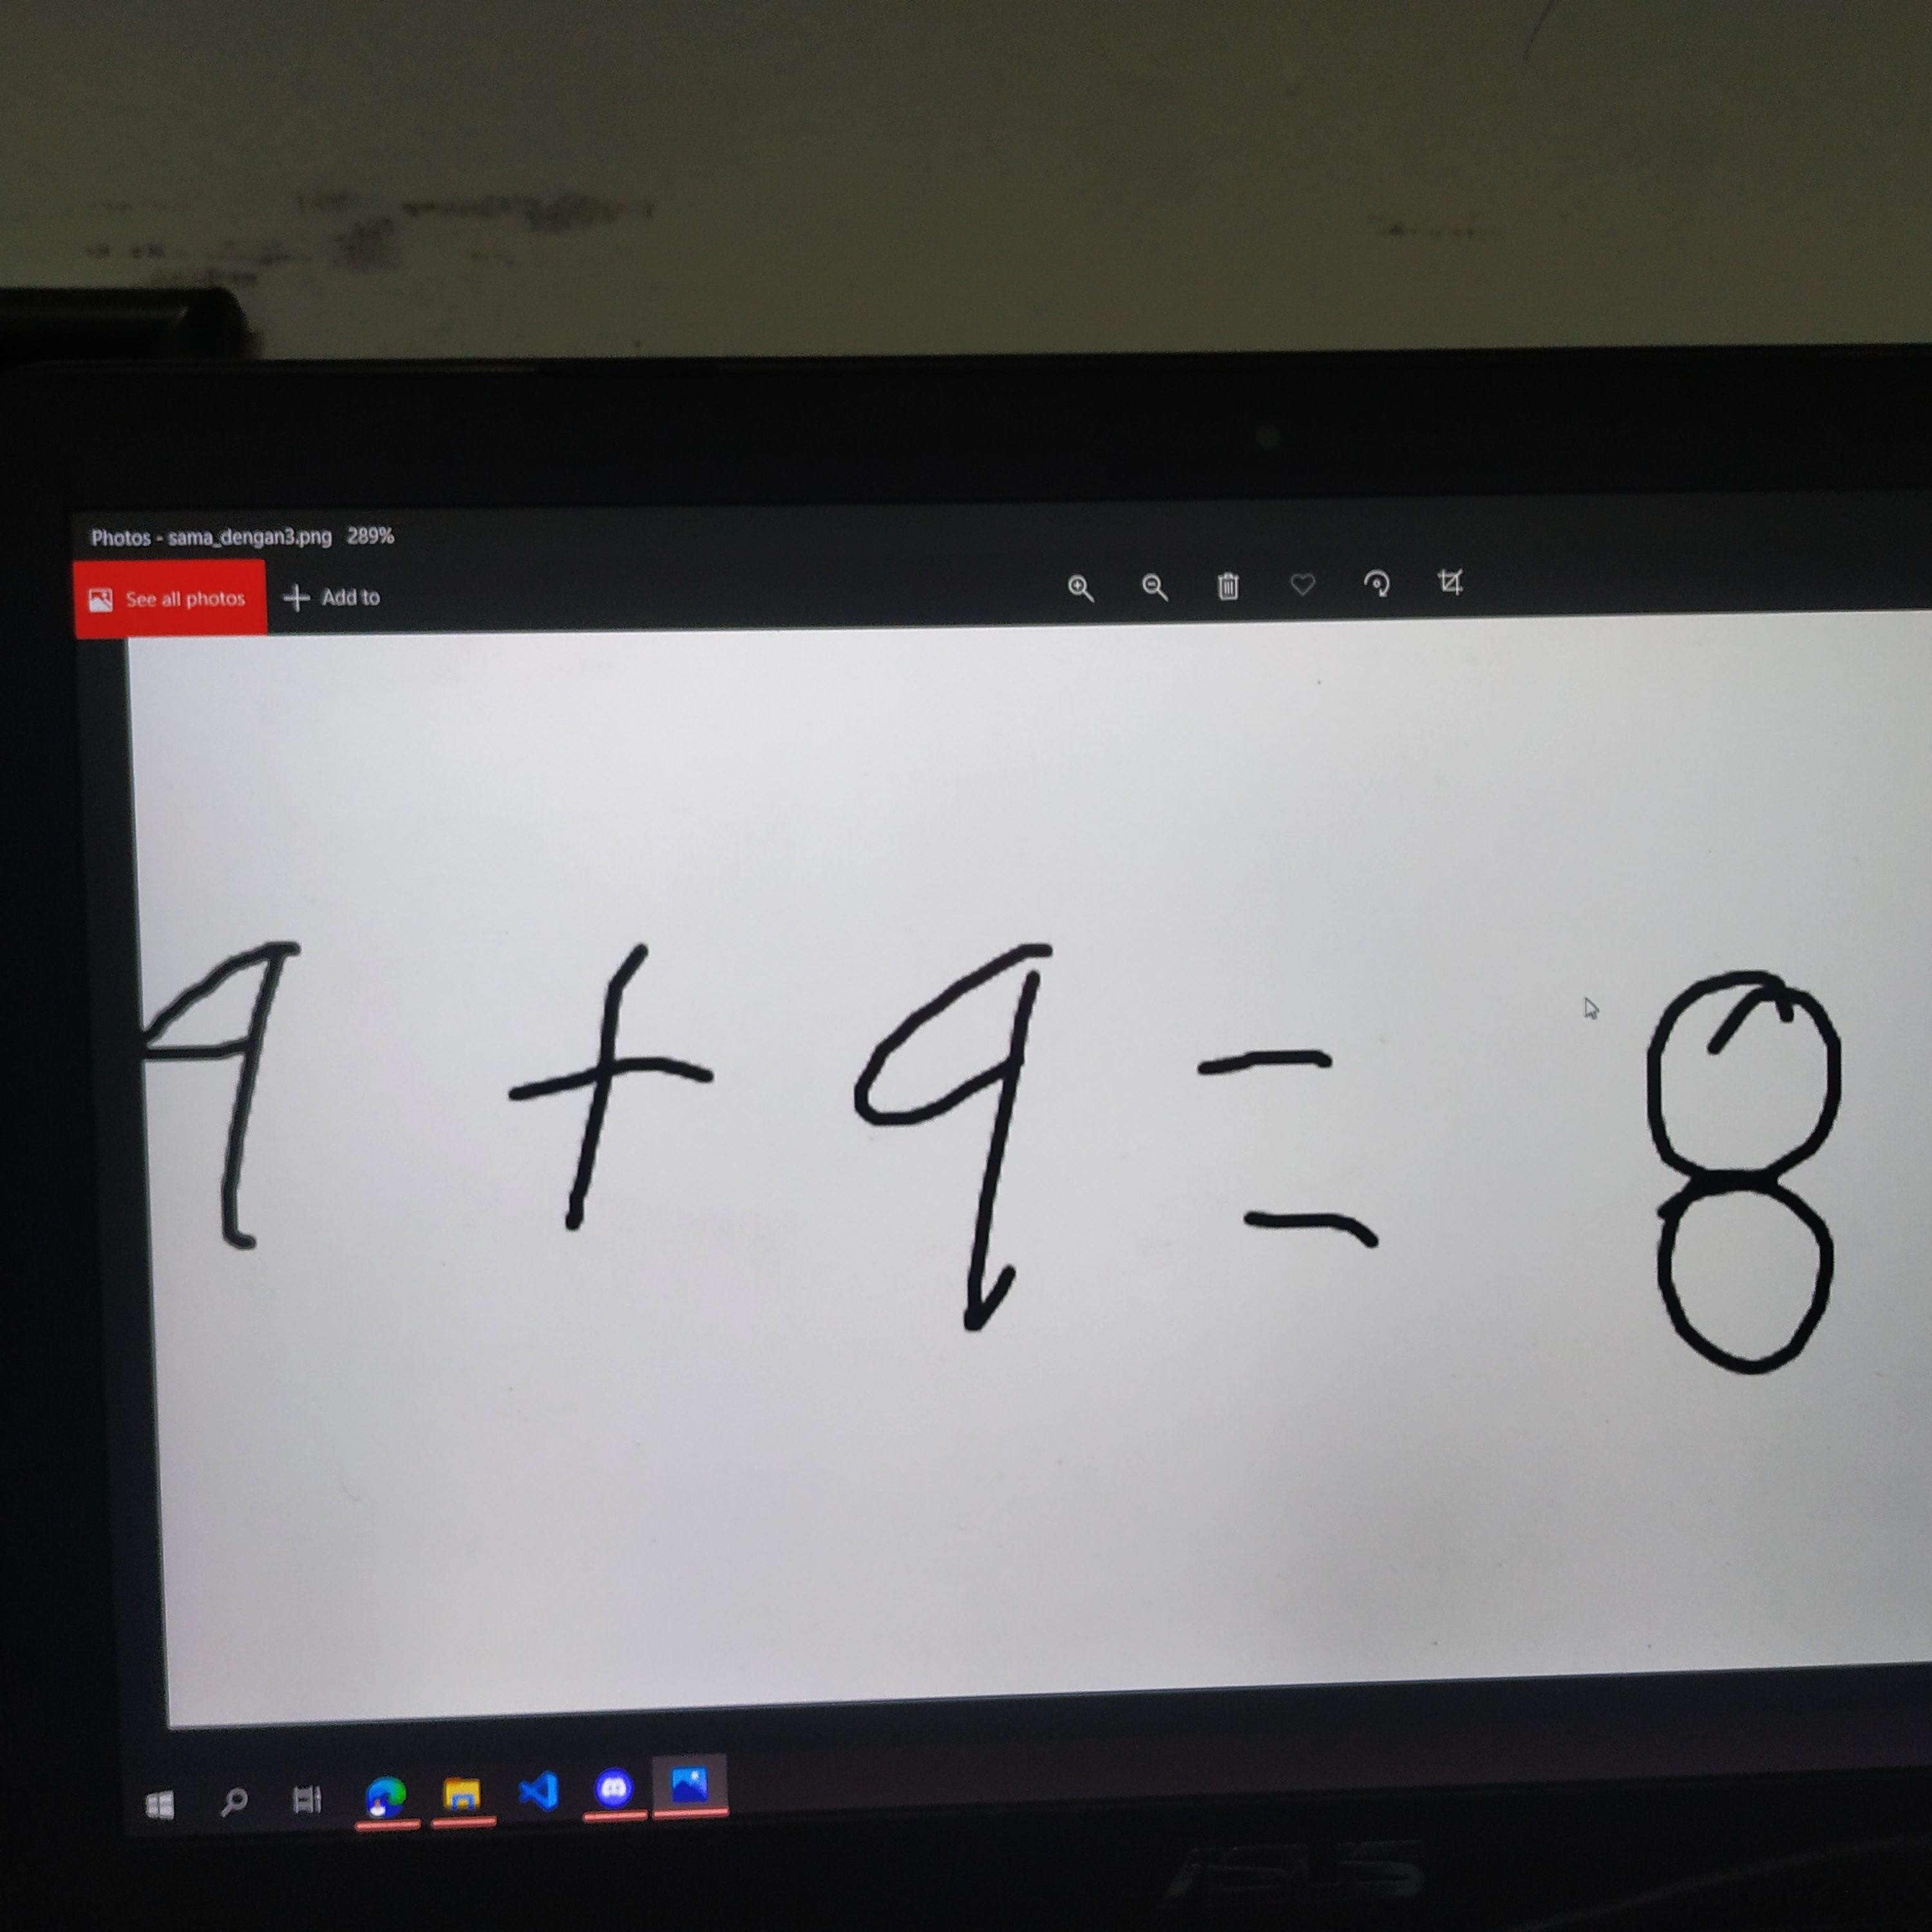equal: (1153, 1022, 1448, 1312)
num4: (838, 929, 1064, 1356), (135, 916, 327, 1288)
num8: (1606, 961, 1885, 1406)
sum: (506, 929, 750, 1273)
